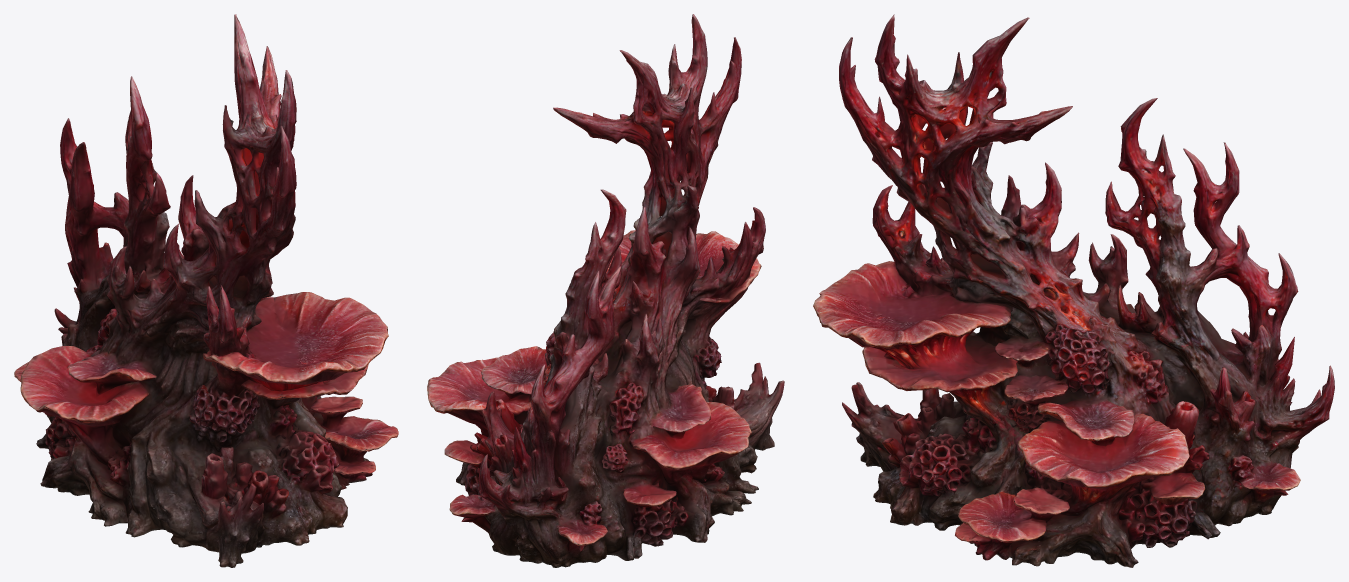
The picture shows the model from 3 angles, left to right: view 1: azimuth 30°, elevation 25°; view 2: azimuth 150°, elevation 25°; view 3: azimuth 270°, elevation 25°; orthographic projection. The views are drawn at different scales.
Parts seen in each view (by area): view 1: tripo_node_298bd4f4-cca8-45e6-8c61-1d014fe33b77; view 2: tripo_node_298bd4f4-cca8-45e6-8c61-1d014fe33b77; view 3: tripo_node_298bd4f4-cca8-45e6-8c61-1d014fe33b77.
Part boxes in pixels (x1,y1,x2,y2): tripo_node_298bd4f4-cca8-45e6-8c61-1d014fe33b77: (14, 14, 398, 567); tripo_node_298bd4f4-cca8-45e6-8c61-1d014fe33b77: (427, 14, 784, 567); tripo_node_298bd4f4-cca8-45e6-8c61-1d014fe33b77: (813, 14, 1334, 567).
Bounding box in the file's own units: 0.7297 × 0.9803 × 0.9545.
Materials: 1 (1 with a texture image).
